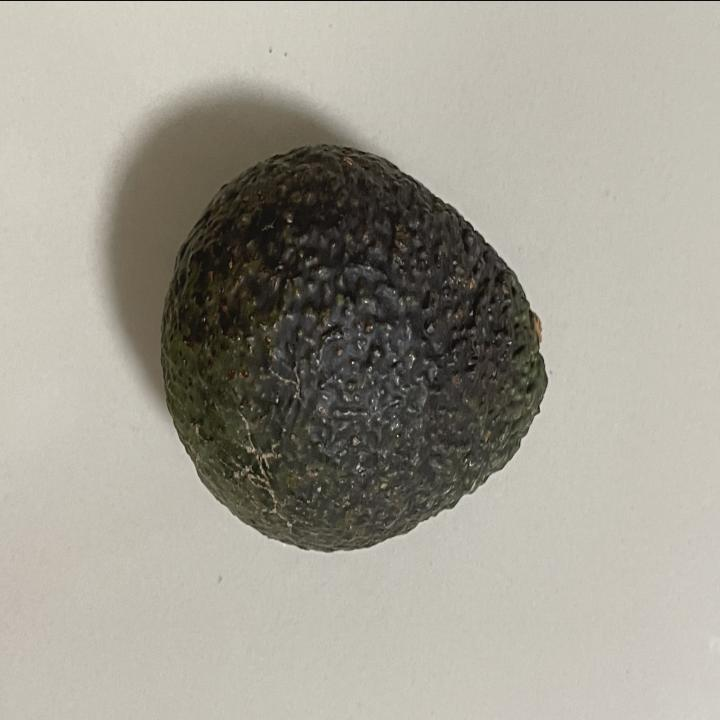Level1: (134, 126, 562, 574)
